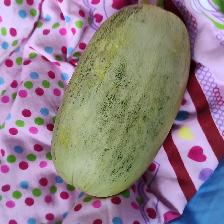gua: (80, 10, 147, 190)
